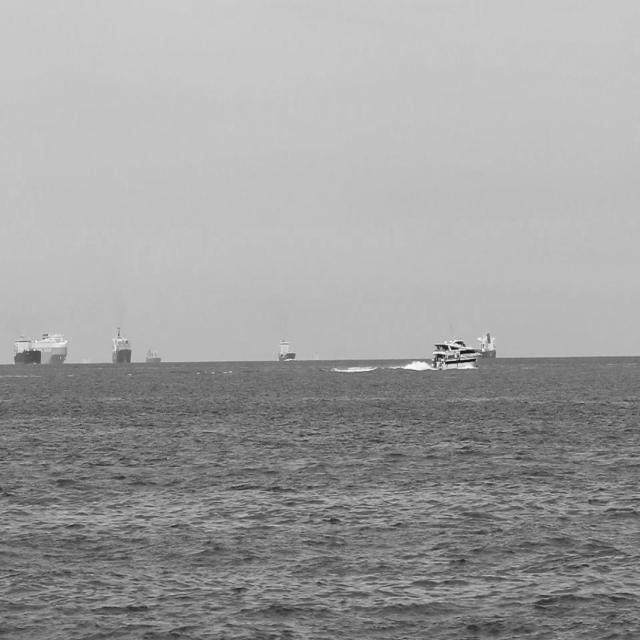ship: (429, 336, 480, 370), (452, 324, 497, 360), (18, 330, 66, 362), (111, 317, 130, 365), (13, 336, 40, 364), (274, 329, 294, 357), (141, 338, 159, 363)
